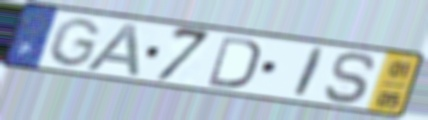7: (151, 25, 214, 85)
A: (82, 21, 143, 79)
D: (206, 34, 263, 91)
G: (45, 16, 104, 69)
I: (289, 45, 329, 100)
S: (321, 50, 380, 107)
